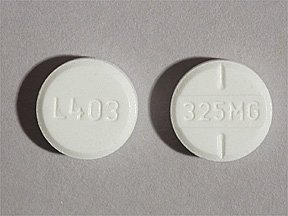Acetaminophen 325 MG Oral Tablet: (163, 54, 278, 166), (34, 55, 142, 164)
